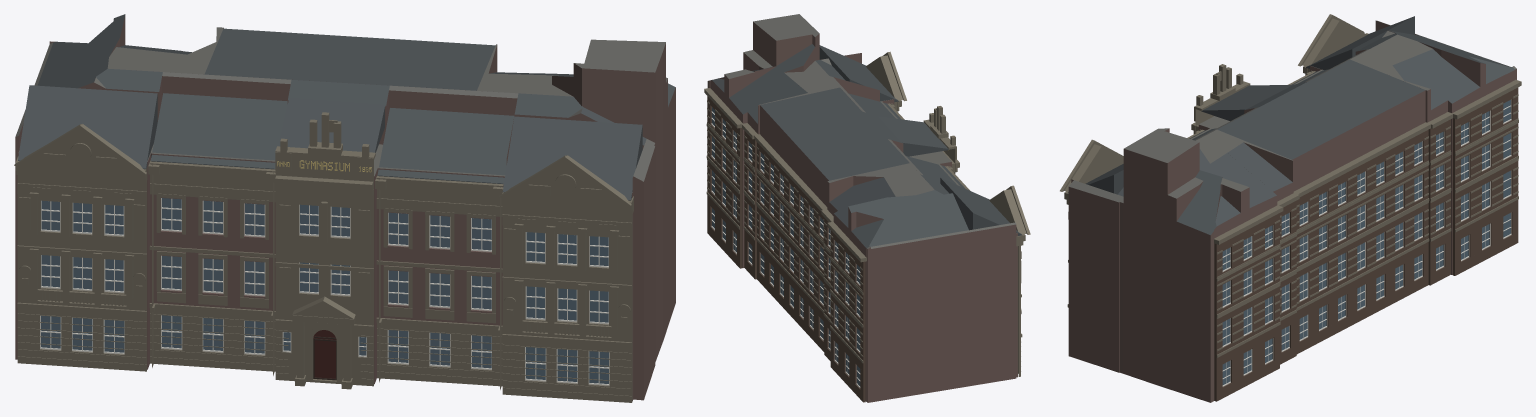
The model's file is barlaeus-gymnasium.glb.
3 renders of one model, left to right at view 1: azimuth 30°, elevation 25°; view 2: azimuth 150°, elevation 25°; view 3: azimuth 270°, elevation 25°, orthographic. The views are drawn at different scales.
Parts seen in each view (by area): view 1: barlaeus-gymnasium; view 2: barlaeus-gymnasium; view 3: barlaeus-gymnasium.
Boxes of the visible parts, left/top/right/bottom form: barlaeus-gymnasium: left=14, top=14, right=675, bottom=402; barlaeus-gymnasium: left=704, top=14, right=1030, bottom=402; barlaeus-gymnasium: left=1060, top=14, right=1521, bottom=402.
Bounding box in the file's own units: 51.09 × 25.2 × 46.69.
